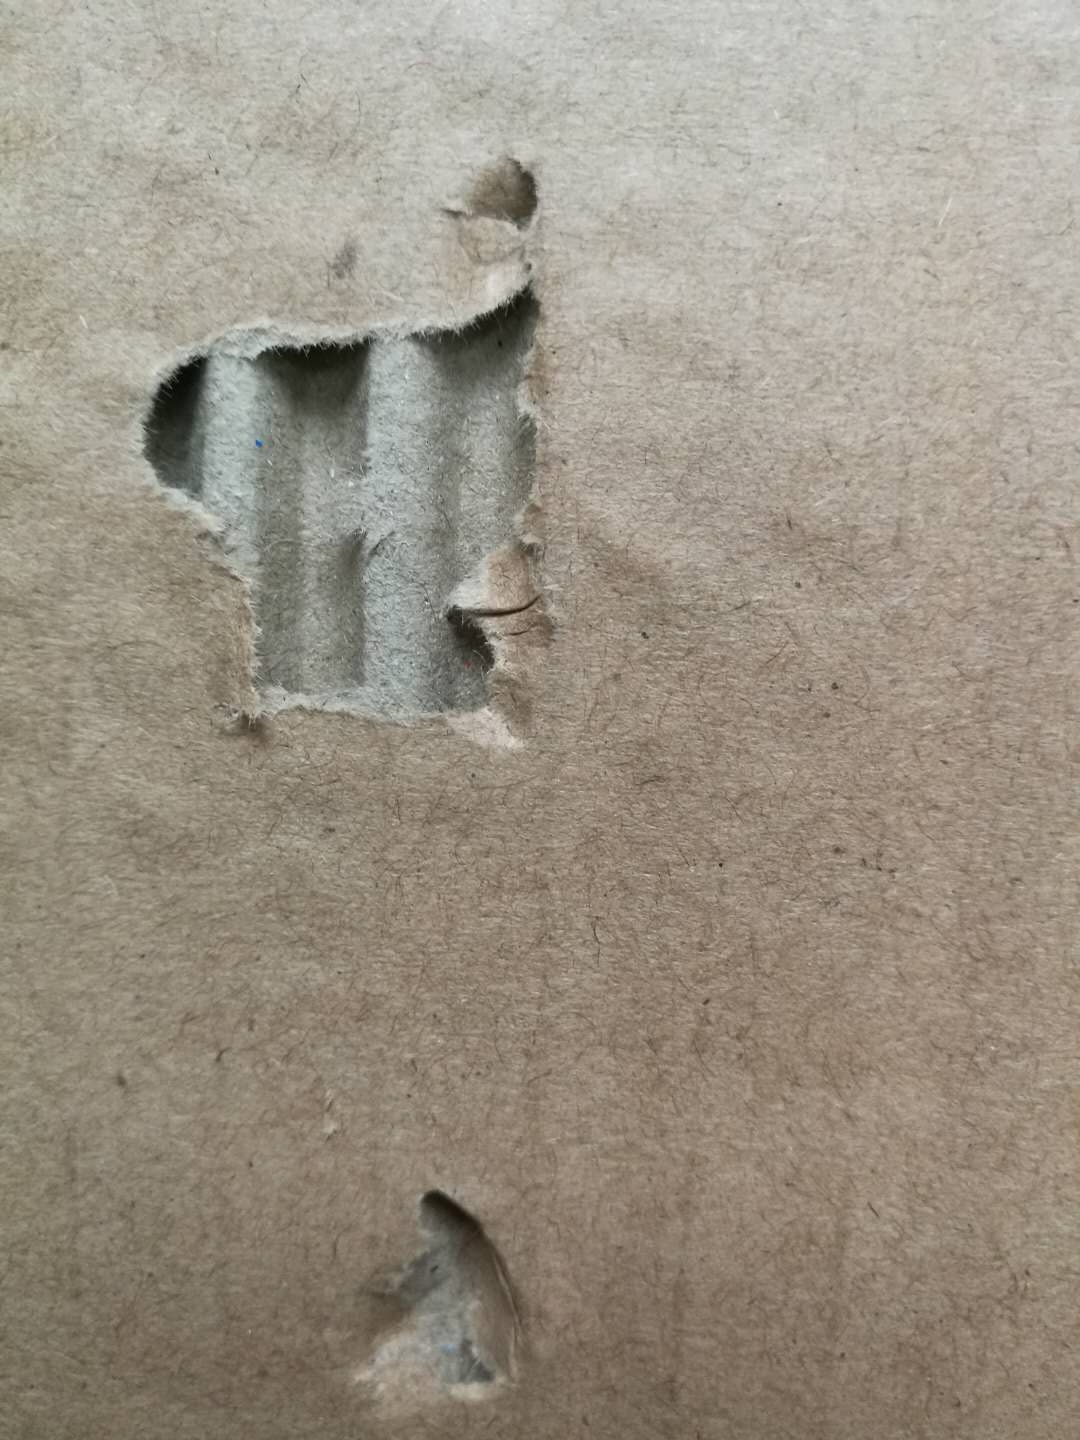defect: (112, 132, 655, 855), (319, 1140, 583, 1428)
